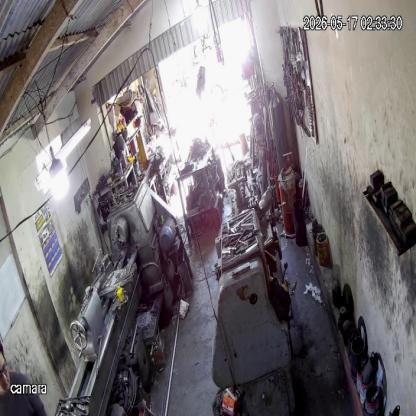lentes: (0, 359, 8, 377)
